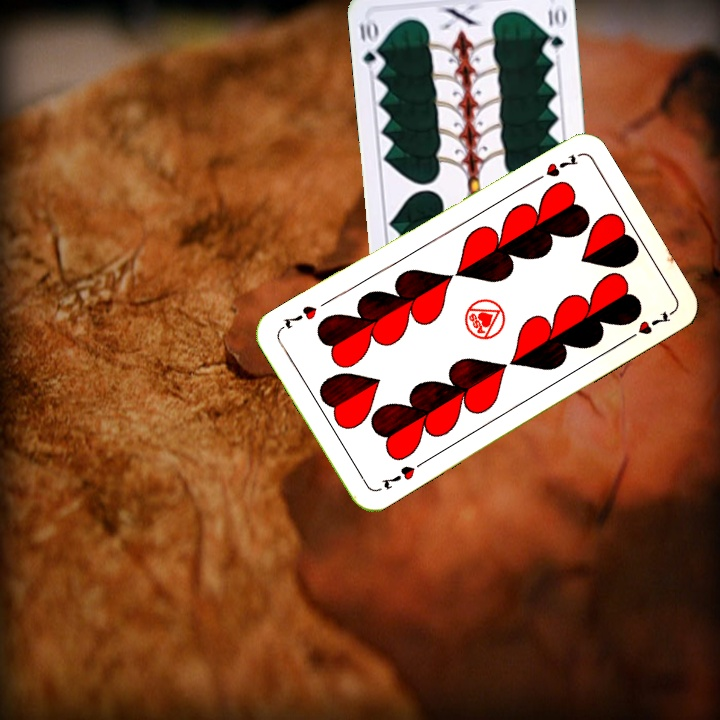G10: (355, 15, 386, 74)
H7: (527, 150, 581, 186), (377, 456, 427, 492)
